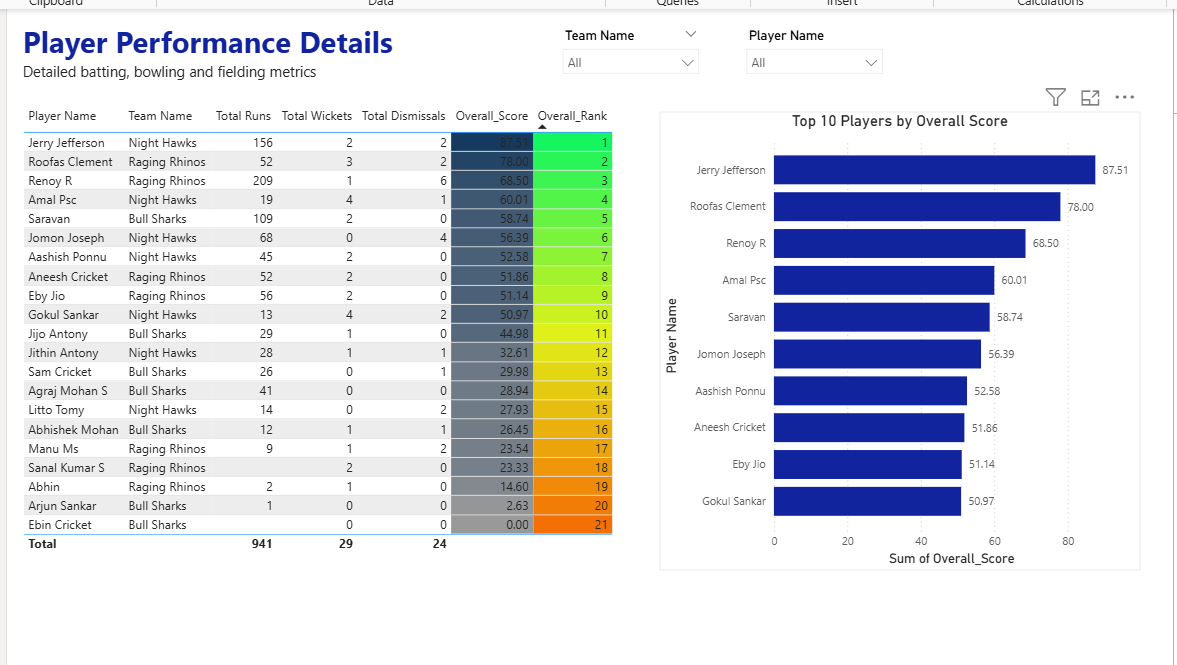

The dashboard page shown, as its layout file describes it:
{"tool":"powerbi","page":{"name":"Player Details","canvas":[1280,720],"ordinal":1},"visuals":[{"type":"tableEx","fields":{"Values":["player_performance.Player Name","player_performance.Team Name","player_performance.Total Runs","player_performance.Total Wickets","player_performance.Total Dismissals","player_performance.Overall_Score","player_performance.Overall_Rank"]},"box":[12.3,101.5,672.4,514.6],"z":0},{"type":"textbox","box":[12.3,9.6,436.4,79.6],"z":1},{"type":"slicer","fields":{"Values":["player_performance.Team Name"]},"box":[599.7,15.1,170.2,74.1],"z":2},{"type":"slicer","fields":{"Values":["player_performance.Player Name"]},"box":[801.4,15.1,170,74],"z":3},{"type":"clusteredBarChart","title":"Top 10 Players by Overall Score","fields":{"Category":["player_performance.Player Name"],"Y":["Sum(player_performance.Overall_Score)"]},"box":[716.3,112.5,528.3,503.6],"z":4}]}

Visuals, with their boxes on the page's 1280x720 design canvas (x1, y1, x2, y2). These are canvas units, not pixel positions in the 1177x665 screenshot, which may show the page scaled, cropped or inside an application window:
tableEx - player_performance.Player Name x player_performance.Team Name: (left=12, top=102, right=685, bottom=616)
textbox: (left=12, top=10, right=449, bottom=89)
slicer - player_performance.Team Name: (left=600, top=15, right=770, bottom=89)
slicer - player_performance.Player Name: (left=801, top=15, right=971, bottom=89)
"Top 10 Players by Overall Score" clusteredBarChart: (left=716, top=112, right=1245, bottom=616)
